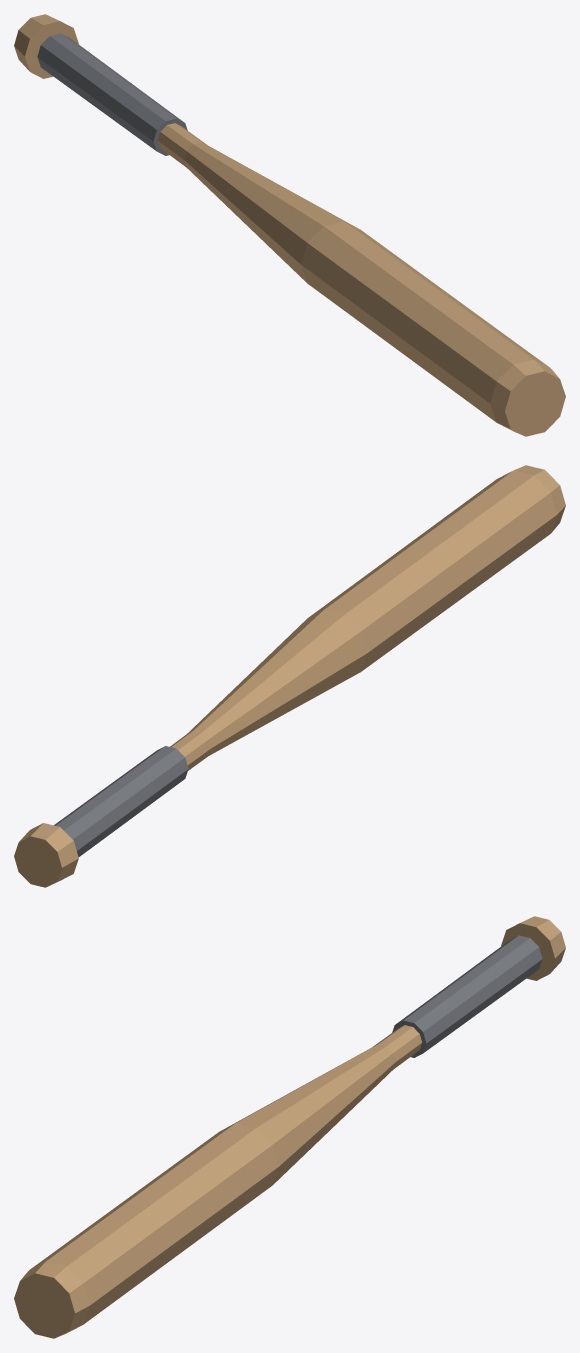
The model's file is baseball-park-and-batting-cages-baseball-bat-6d026e67__33763.glb.
3 renders of one model, top to bottom at view 1: azimuth 30°, elevation 25°; view 2: azimuth 150°, elevation 25°; view 3: azimuth 330°, elevation 25°, orthographic.
Parts seen in each view (by area): view 1: baseball-bat; view 2: baseball-bat; view 3: baseball-bat.
Part boxes in pixels (left/top/right/bottom): baseball-bat: left=14, top=14, right=565, bottom=436; baseball-bat: left=14, top=465, right=565, bottom=887; baseball-bat: left=14, top=916, right=565, bottom=1338.
Bounding box in the file's own units: 0.067 × 0.0637 × 0.86.
